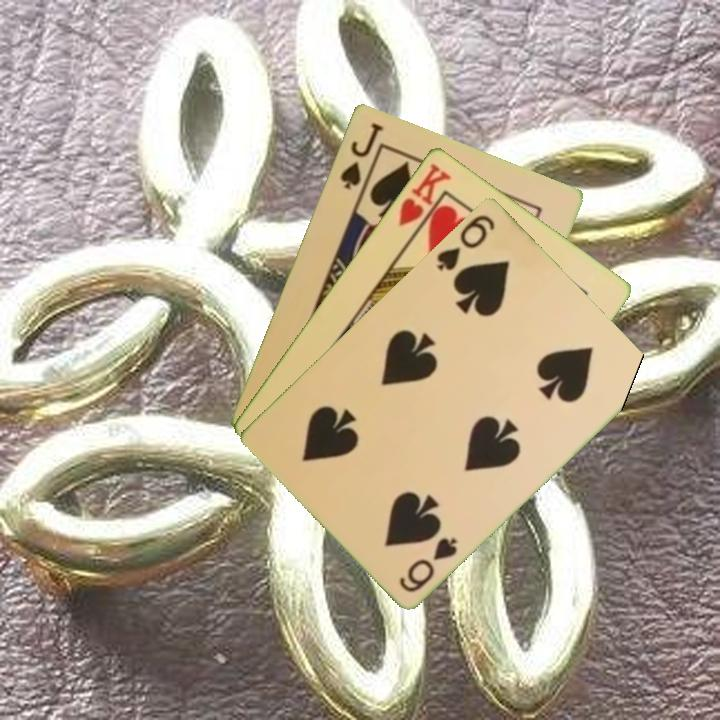6s: (433, 210, 498, 273), (396, 533, 460, 595)
Js: (336, 118, 386, 192)
Kh: (394, 159, 455, 240)
